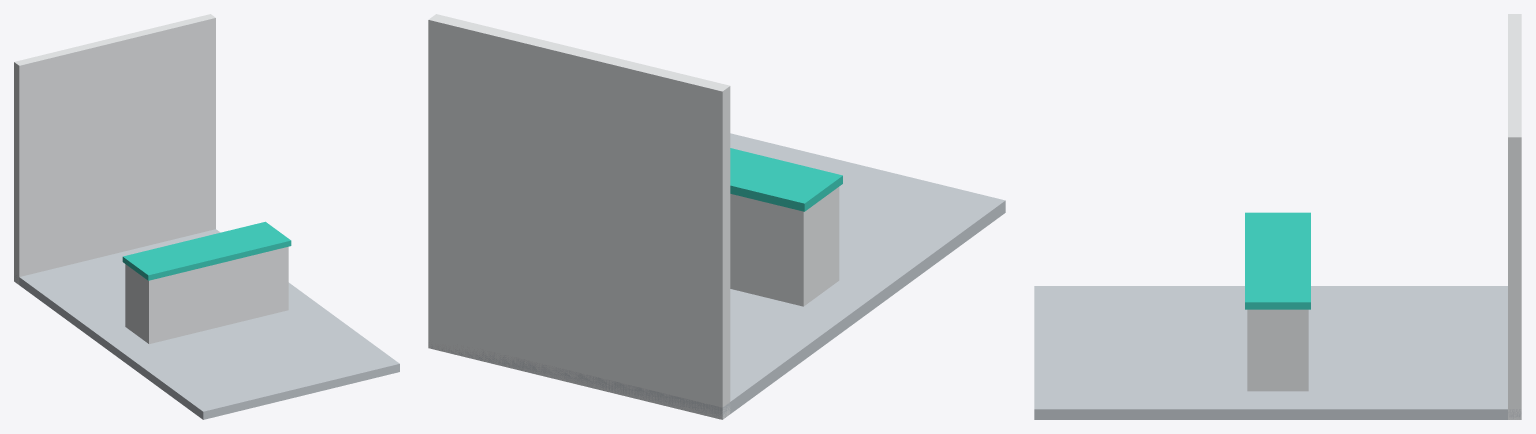
3 renders of one model, left to right at view 1: azimuth 30°, elevation 25°; view 2: azimuth 150°, elevation 25°; view 3: azimuth 270°, elevation 25°, orthographic. The views are drawn at different scales.
Visible parts, largest first — view 1: Exhibition Booth Concept; view 2: Exhibition Booth Concept; view 3: Exhibition Booth Concept.
Part boxes in pixels (left/top/right/bottom): Exhibition Booth Concept: left=14, top=14, right=399, bottom=419; Exhibition Booth Concept: left=428, top=14, right=1005, bottom=419; Exhibition Booth Concept: left=1034, top=14, right=1521, bottom=419.
Size of the model in its own units: 3 by 3.2 by 5.
